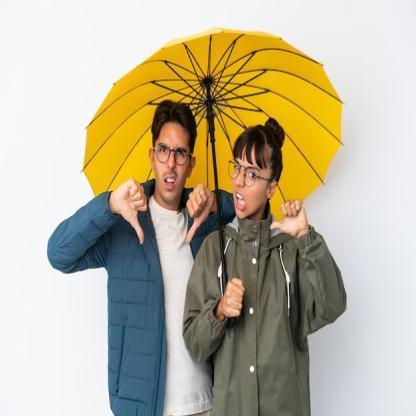thumb_down: (113, 174, 150, 249), (270, 192, 310, 242), (184, 180, 214, 246)
